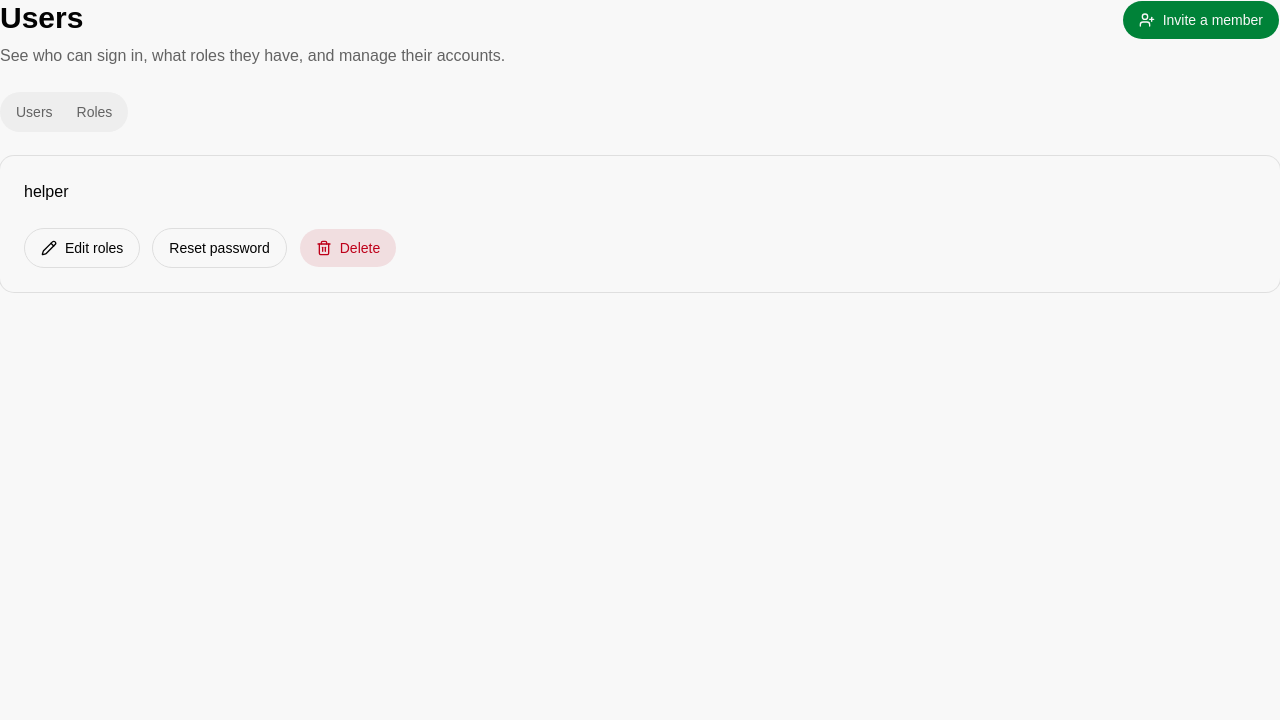
UsersPage › closes and refreshes users and the operator's own access after saving
This screenshot has width=1280, height=720.
What coordinates should you click on to do the following:
click the button "Edit roles"
I would click on:
 (82, 248)
Its box is [24,228,140,268].
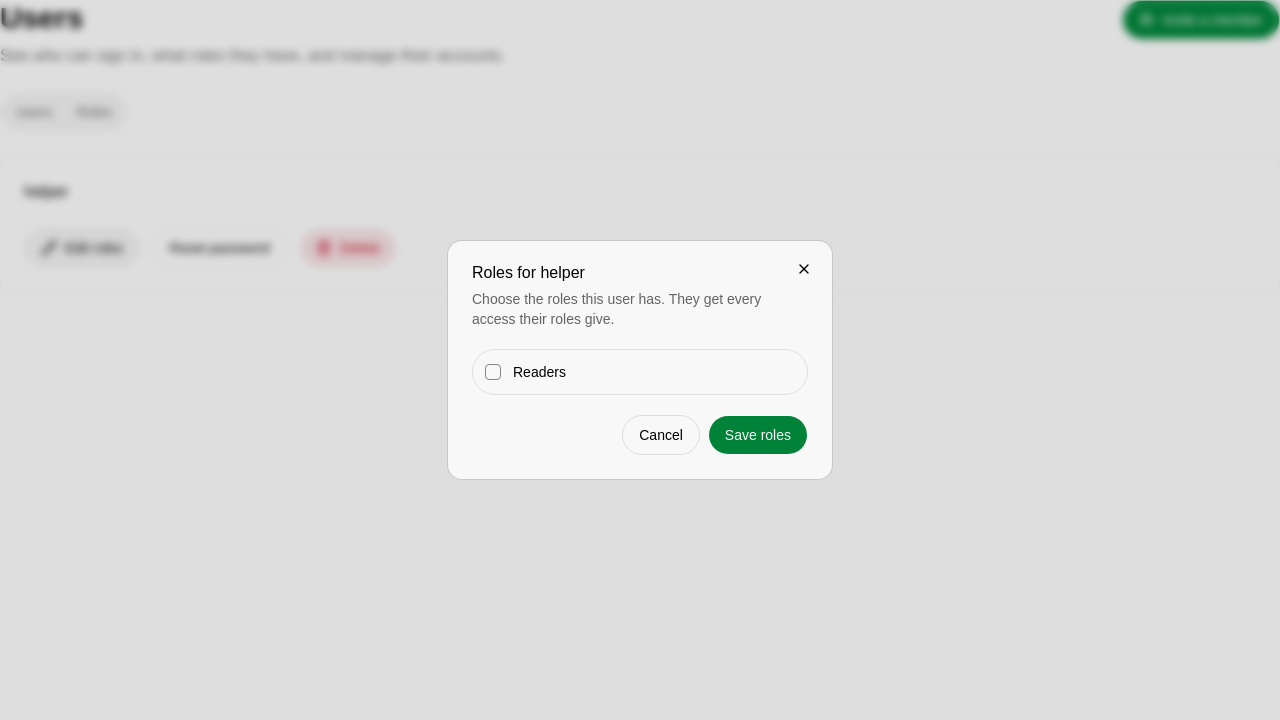
What coordinates should you click on to do the following:
click the 1st checkbox
I would click on:
 (493, 372)
Its box is [485,364,501,380].
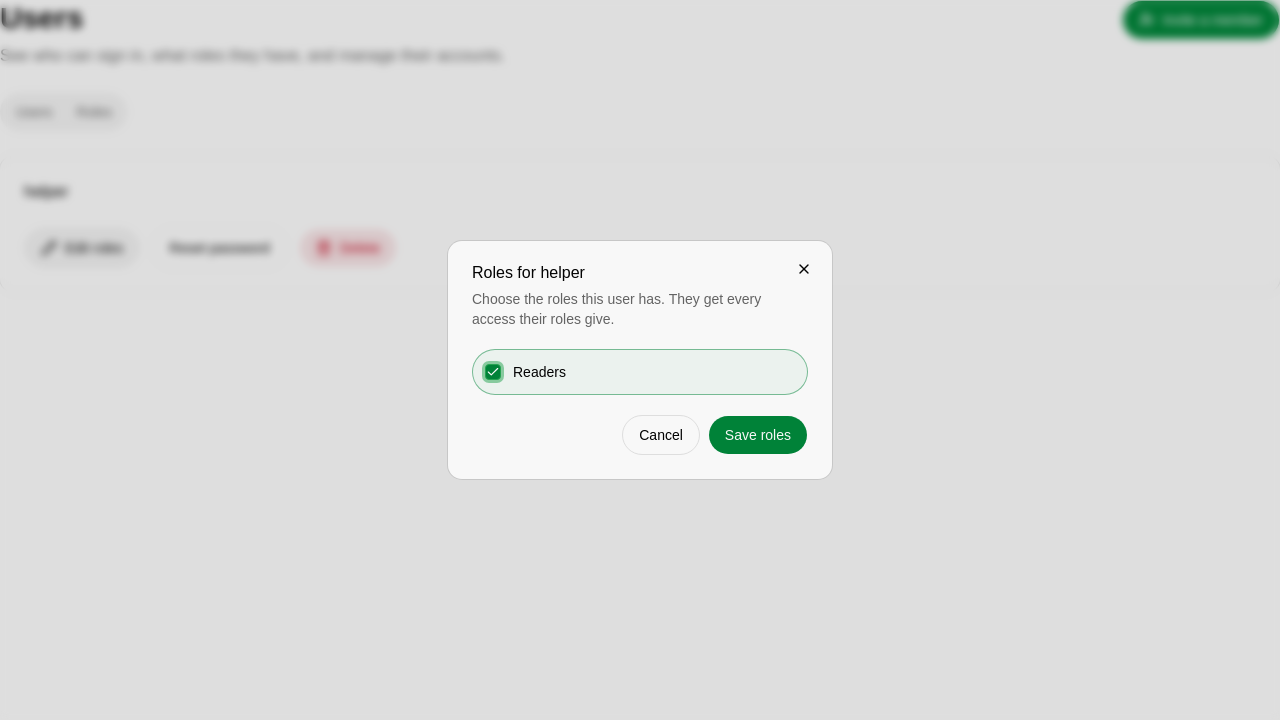
What coordinates should you click on to do the following:
click the button "Save roles"
I would click on:
 (758, 435)
Its box is [708,415,808,455].
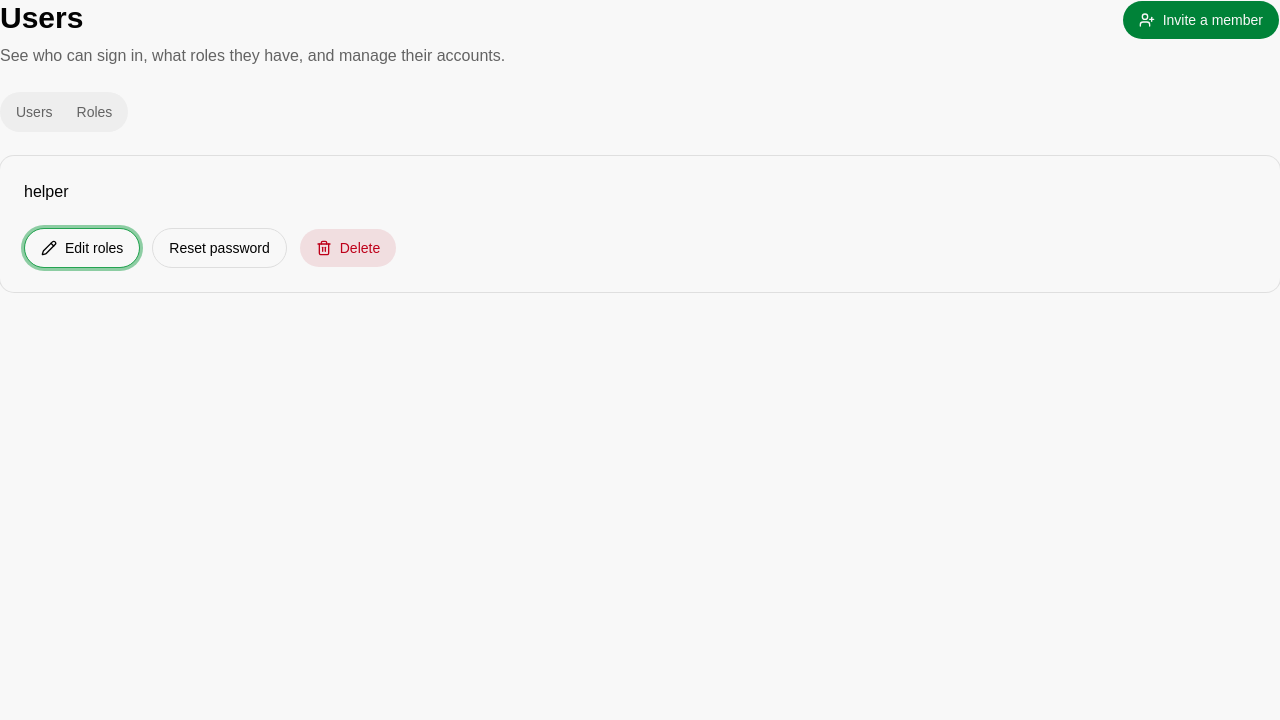
Result: the dialog is gone
